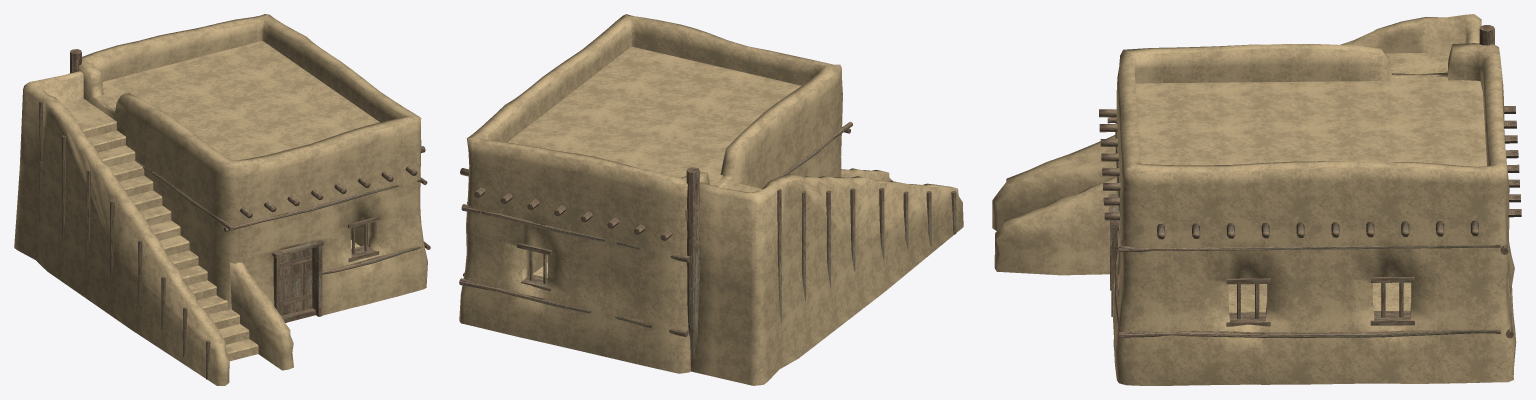
File: egypt_house_001.glb
The picture shows the model from 3 angles, left to right: view 1: azimuth 30°, elevation 25°; view 2: azimuth 150°, elevation 25°; view 3: azimuth 270°, elevation 25°; orthographic projection. The views are drawn at different scales.
Parts seen in each view (by area): view 1: walls, roof; view 2: walls, roof; view 3: walls, roof.
Part boxes in pixels (x1=…): walls: x1=14, y1=52, x2=430, y2=385; roof: x1=23, y1=14, x2=421, y2=193; walls: x1=459, y1=96, x2=963, y2=385; roof: x1=467, y1=14, x2=842, y2=244; walls: x1=992, y1=21, x2=1521, y2=385; roof: x1=1116, y1=14, x2=1509, y2=203.
Bounding box in the file's own units: 5.59 × 3.42 × 7.16.
Materials: 2 (2 with a texture image).
